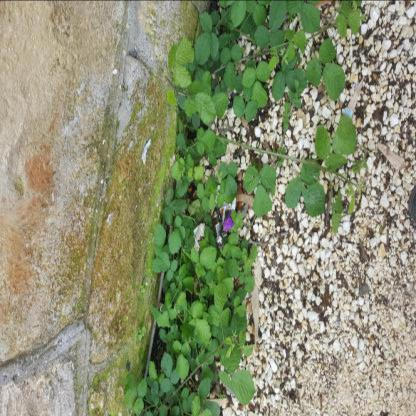Plastic bag - wrapper: (211, 185, 236, 250), (193, 222, 206, 250), (342, 108, 354, 117), (194, 275, 199, 286)
Unlabeled litter: (142, 138, 152, 164)
